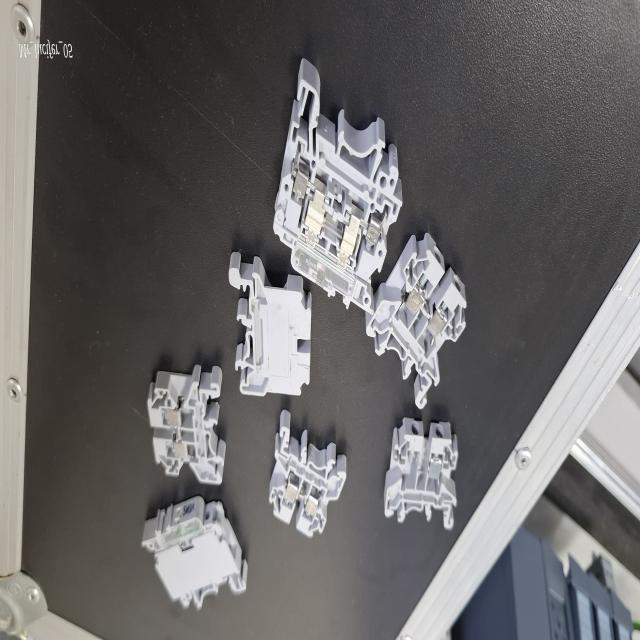Inverted: (229, 248, 314, 428)
Pass: (356, 248, 474, 407), (138, 324, 232, 511), (252, 424, 356, 554)
Reject: (377, 405, 471, 545)
